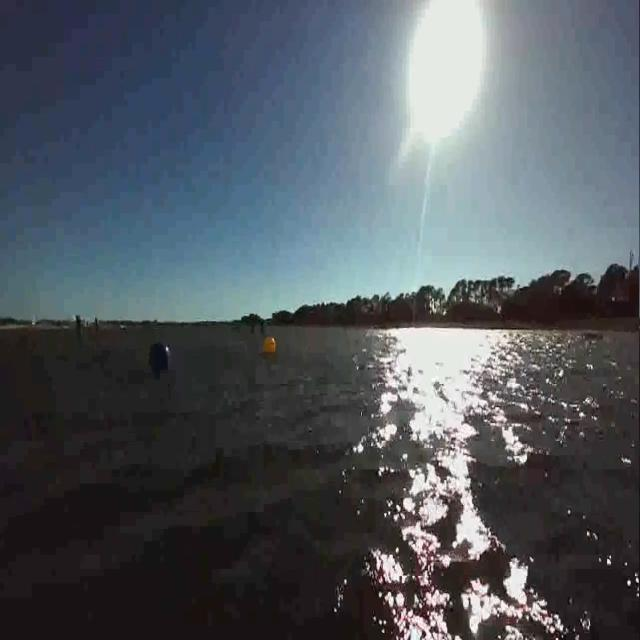yellow-buoy: (265, 337, 278, 354)
